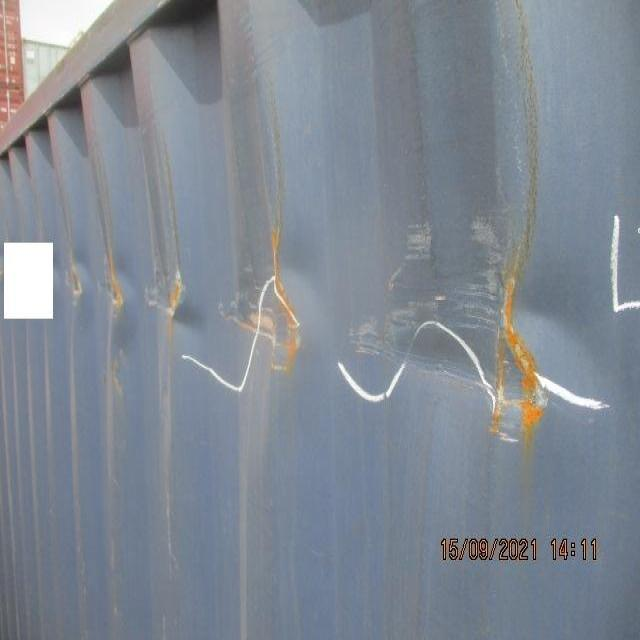dent: (55, 172, 631, 509)
